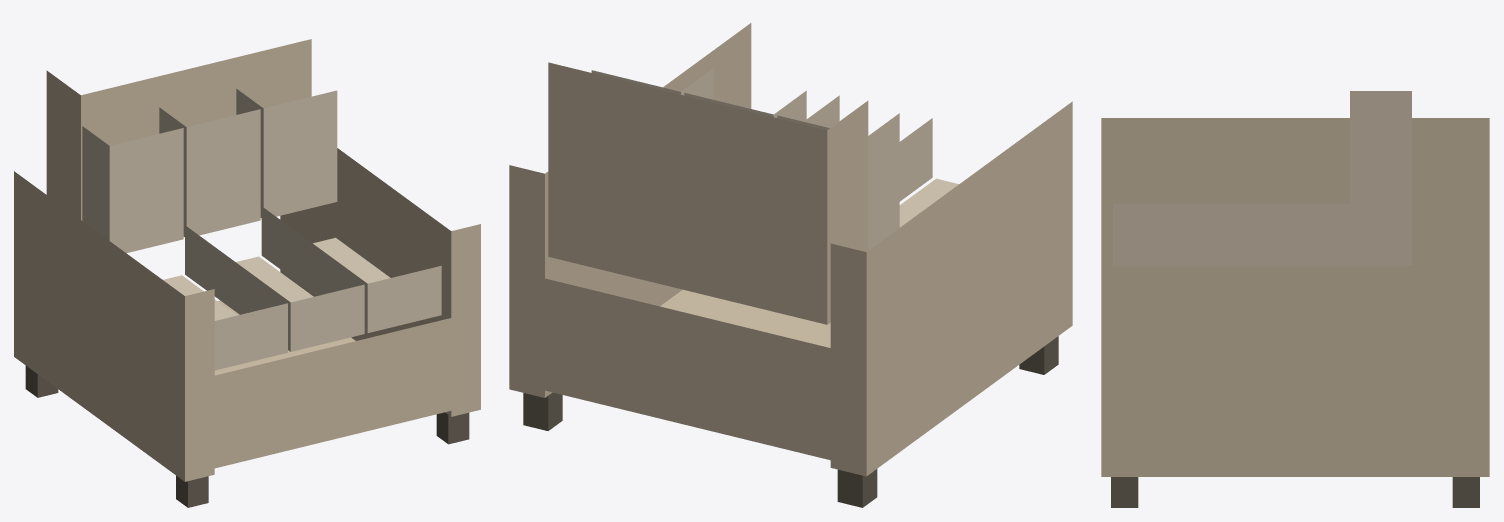
File: Sofa-beige.glb
3 renders of one model, left to right at view 1: azimuth 30°, elevation 25°; view 2: azimuth 150°, elevation 25°; view 3: azimuth 270°, elevation 25°, orthographic. The views are drawn at different scales.
Visible parts, largest first — view 1: Sofa; view 2: Sofa; view 3: Sofa.
Part boxes in pixels (x1,y1,x2,y2): Sofa: (14, 39, 480, 507); Sofa: (509, 23, 1072, 507); Sofa: (1101, 91, 1489, 507).
Bounding box in the file's own units: 1 × 1 × 1.
